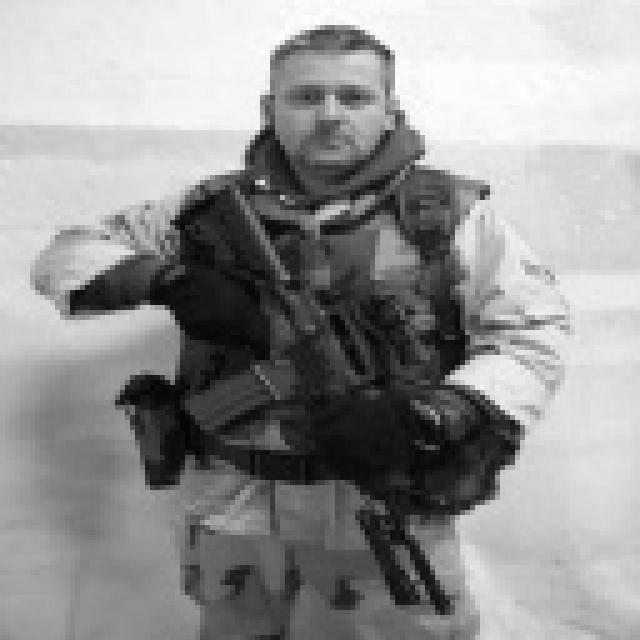Rifle: (119, 172, 510, 551)
